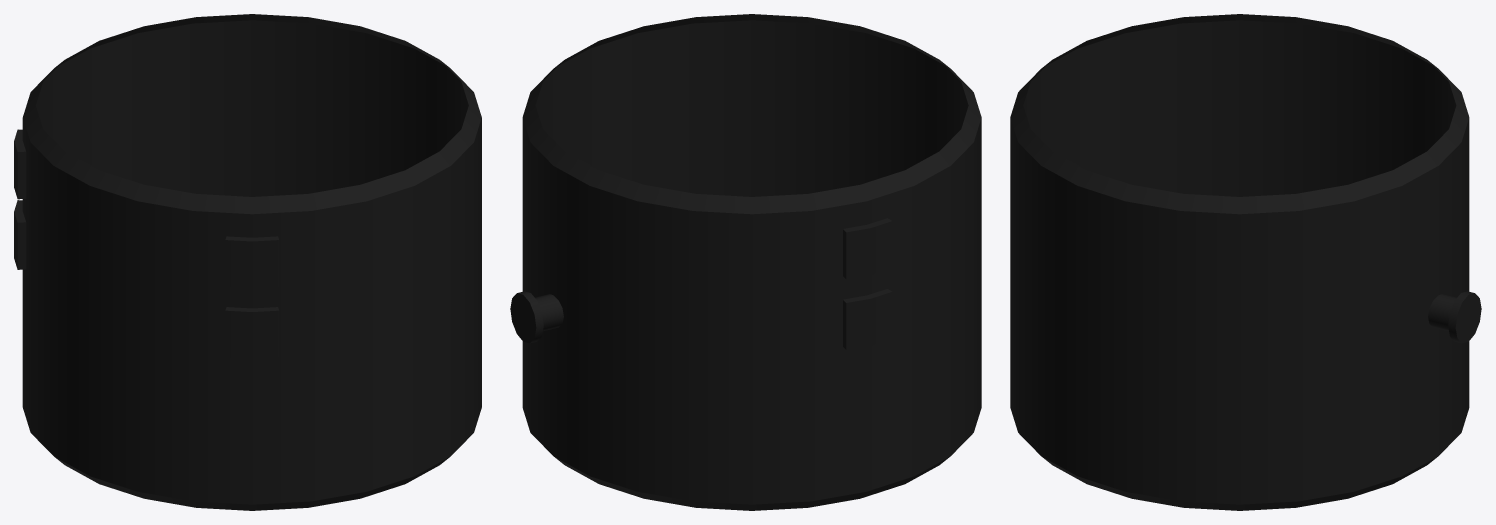
The model's file is virgo_radiator_fuel_tank_s1_2.obj.
The picture shows the model from 3 angles, left to right: view 1: azimuth 30°, elevation 25°; view 2: azimuth 150°, elevation 25°; view 3: azimuth 270°, elevation 25°; orthographic projection.
Visible parts, largest first — view 1: mesh; view 2: mesh; view 3: mesh.
Part boxes in pixels (x1,y1,x2,y2): mesh: (14, 14, 481, 510); mesh: (510, 14, 981, 510); mesh: (1010, 14, 1481, 510).
Size of the model in its own units: 1.33 by 1 by 1.36.
